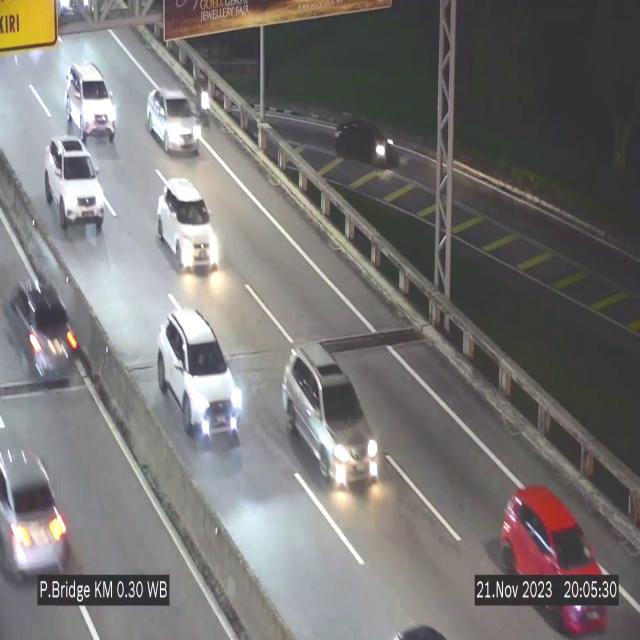Car: (282, 341, 378, 486), (158, 309, 248, 447), (45, 136, 104, 234), (157, 179, 219, 270), (66, 63, 116, 144), (146, 88, 202, 155)
Motorcycle: (195, 70, 212, 133)
